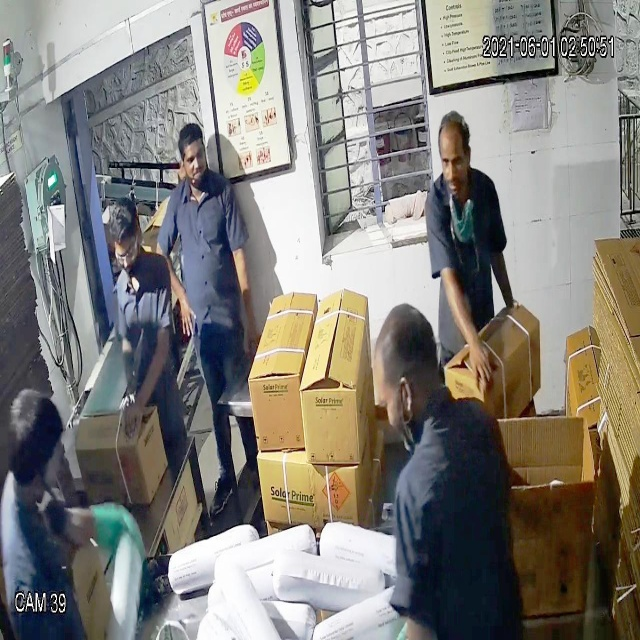Gafas: (109, 231, 148, 274)
Sin_gafas: (435, 145, 472, 180), (178, 145, 211, 172)
